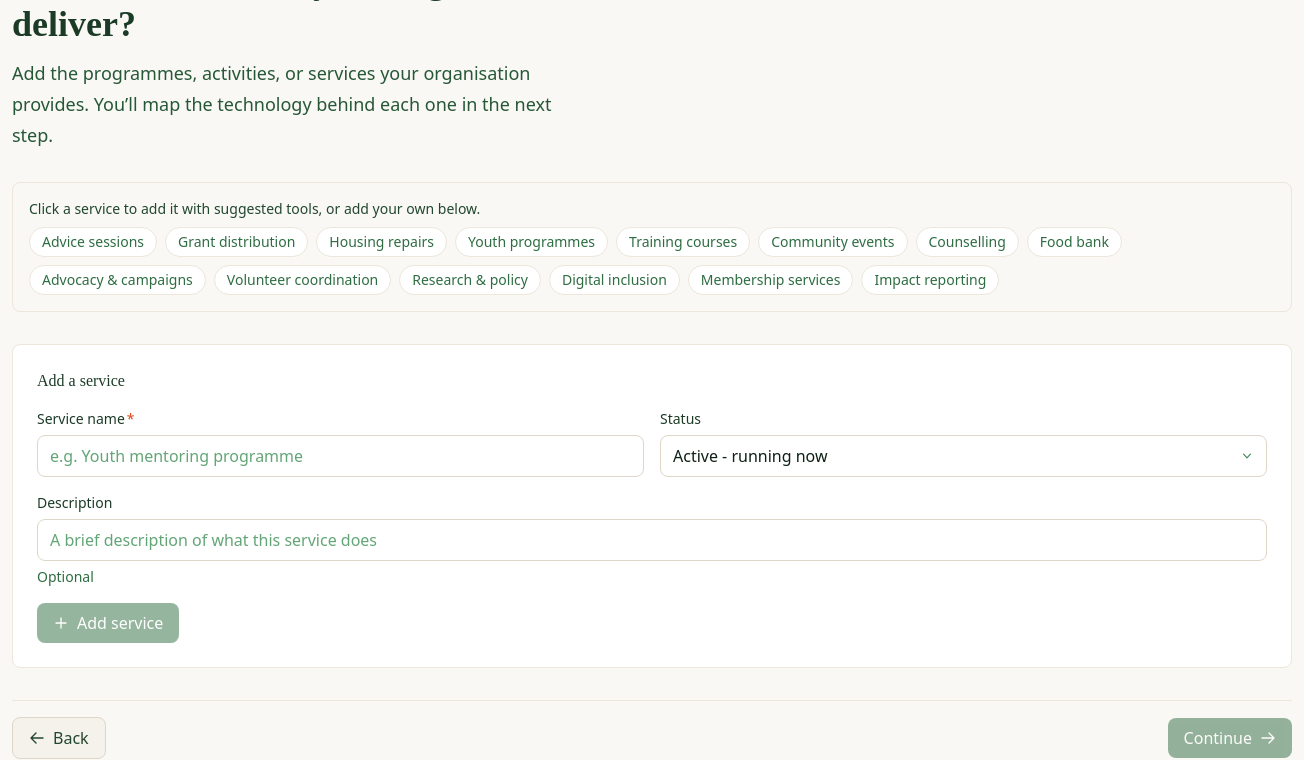
it: ServiceListForm › enables Continue button after adding a service
Step 1. Type "Youth mentoring" into the field labelled "Service name*" → x=340, y=456, box [37,435,644,477]
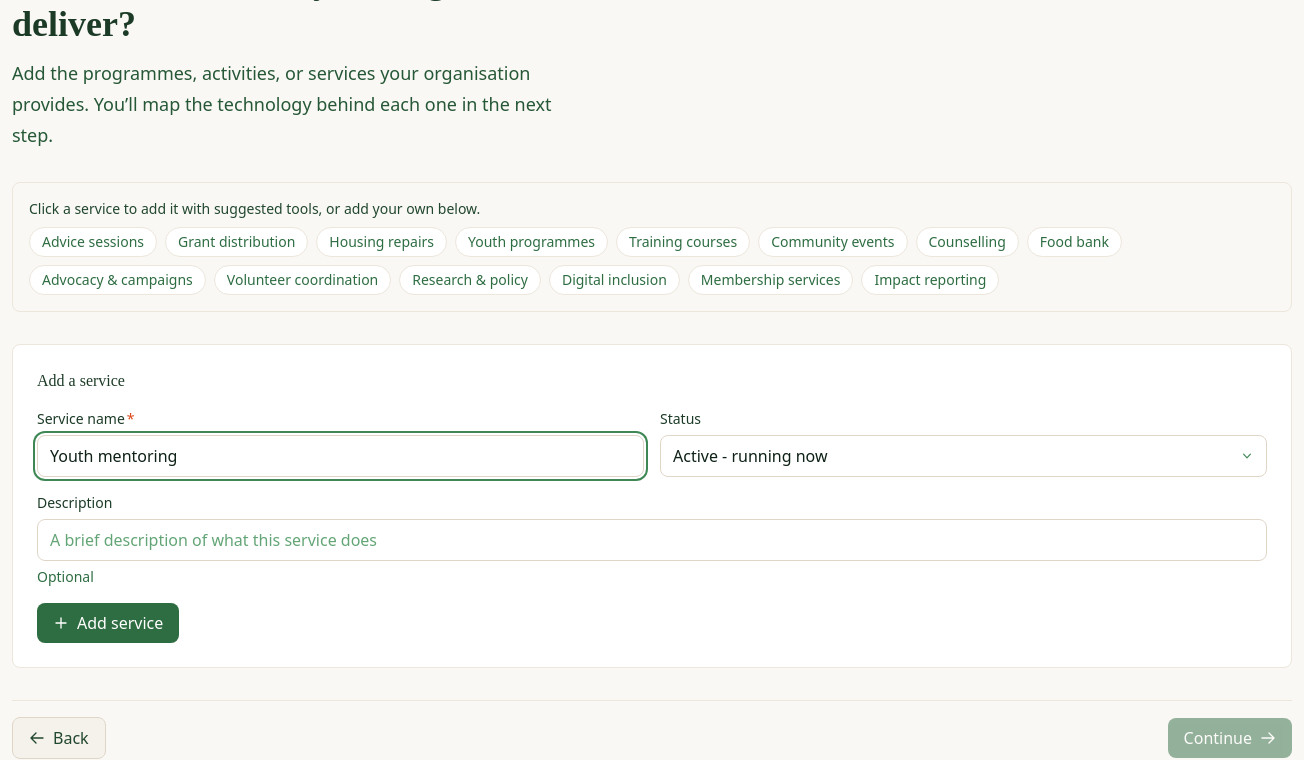
Step 2. Click the button "Add service" → x=108, y=623, box [37,603,179,643]
(page scrolled)
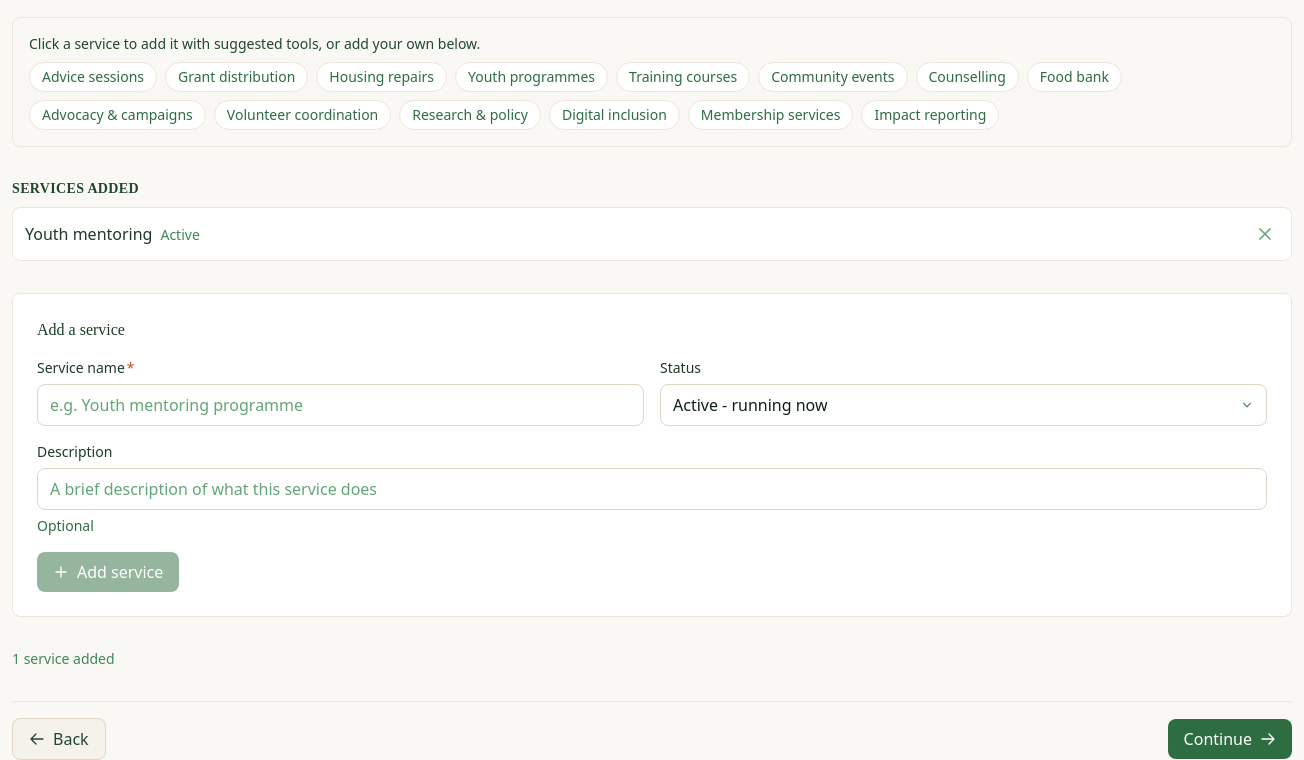
Now the button "Continue" is enabled, box [1168,719,1292,759]
